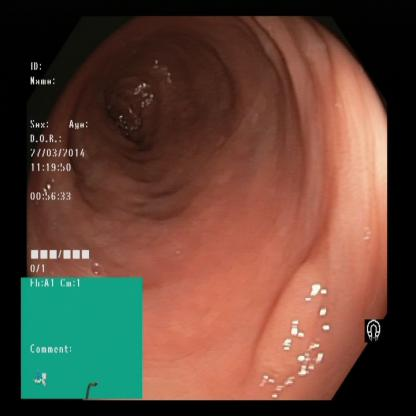Labels: (29, 54, 106, 277), (21, 280, 145, 398), (360, 295, 390, 356)
Polyps: (262, 266, 330, 382)
